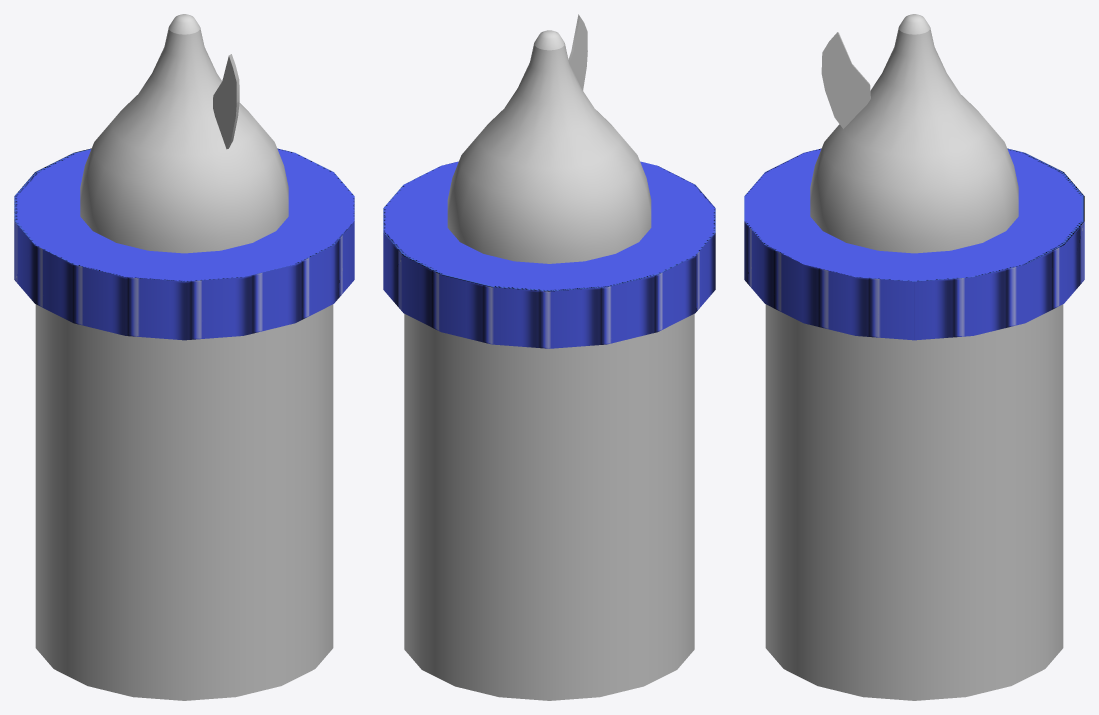
File: BabyBottle.FBX
3 renders of one model, left to right at view 1: azimuth 30°, elevation 25°; view 2: azimuth 150°, elevation 25°; view 3: azimuth 270°, elevation 25°, orthographic. The views are drawn at different scales.
Visible parts, largest first — view 1: BabyBottle, BabyBottleCap, BabyBottleNozzle, Box001; view 2: BabyBottle, BabyBottleCap, BabyBottleNozzle, Box001; view 3: BabyBottle, BabyBottleCap, BabyBottleNozzle, Box001.
Boxes of the visible parts, x1,y1,x2,y2 form: BabyBottle: [35, 304, 333, 700]; BabyBottleCap: [14, 148, 354, 340]; BabyBottleNozzle: [80, 14, 288, 253]; Box001: [213, 54, 239, 149]; BabyBottle: [404, 314, 694, 700]; BabyBottleCap: [383, 161, 715, 348]; BabyBottleNozzle: [447, 30, 651, 263]; Box001: [568, 14, 587, 90]; BabyBottle: [765, 304, 1063, 700]; BabyBottleCap: [744, 148, 1084, 340]; BabyBottleNozzle: [810, 14, 1018, 253]; Box001: [821, 32, 870, 128].
Size of the model in its own units: 6.3 by 12.5 by 6.2.
